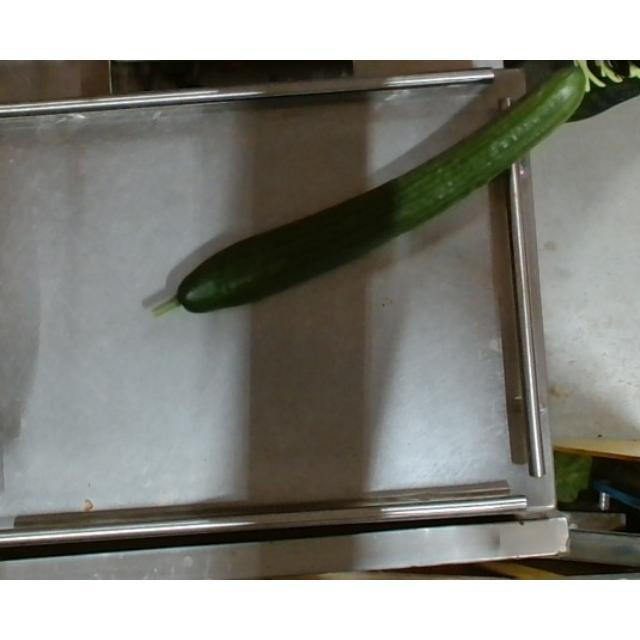cucumber: (152, 65, 586, 319)
